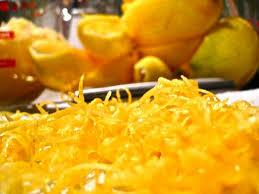Organic: (0, 5, 259, 194)
